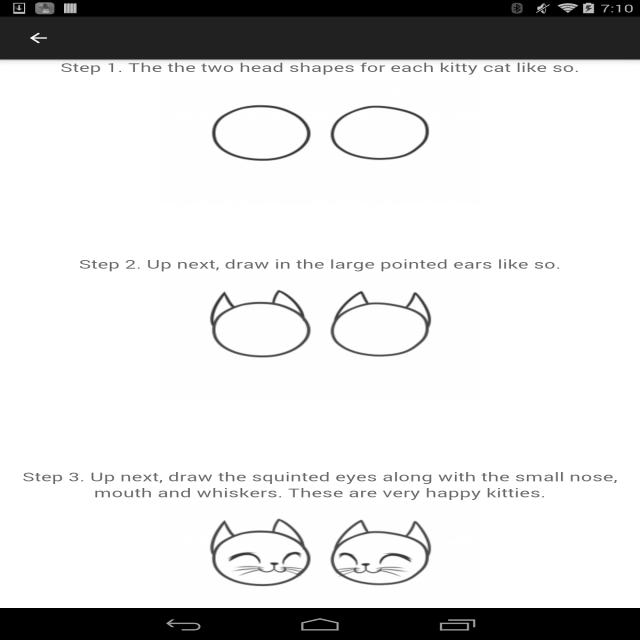ImageButton: (17, 29, 62, 44)
ImageView: (193, 286, 464, 364), (192, 515, 440, 591), (199, 97, 447, 173)
TextView: (9, 466, 626, 501), (72, 251, 570, 272), (53, 59, 591, 77)
